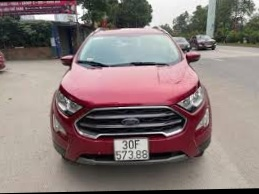Bien-so: (112, 136, 148, 158)
